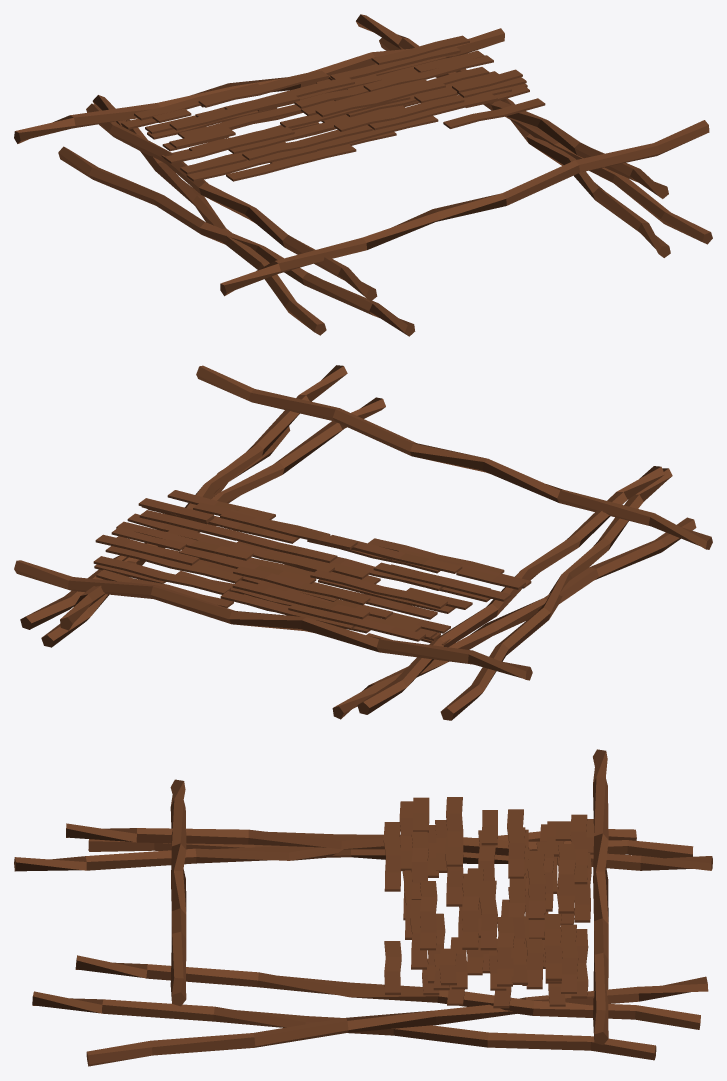
The model's file is TowerBuild.glb.
3 renders of one model, top to bottom at view 1: azimuth 30°, elevation 25°; view 2: azimuth 150°, elevation 25°; view 3: azimuth 270°, elevation 25°, orthographic. The views are drawn at different scales.
Parts seen in each view (by area): view 1: Cylinder.008, Cylinder.006, Cylinder.009, Cylinder.007, Cylinder.005, Cylinder.004, Cylinder.003, Cylinder.001, Cube.047, Cube.010, Cube.005, Cube.026 (+20 smaller); view 2: Cylinder.008, Cylinder.009, Cylinder.007, Cylinder.005, Cylinder.006, Cylinder.003, Cylinder.001, Cube.026, Cube.005, Cube.023, Cube.024, Cube.009 (+24 smaller); view 3: Cylinder.004, Cylinder.003, Cylinder.001, Cylinder.007, Cylinder.006, Cylinder.009, Cylinder.005, Cylinder.008, Cube.008, Cube.026, Cube.005, Cube.023 (+26 smaller).
Part boxes in pixels (x1,y1,x2,y2): Cylinder.008: [220, 120, 709, 296]; Cylinder.006: [58, 146, 415, 336]; Cylinder.009: [14, 28, 504, 143]; Cylinder.007: [86, 103, 377, 301]; Cylinder.005: [92, 95, 326, 335]; Cylinder.004: [356, 14, 712, 244]; Cylinder.003: [456, 68, 670, 257]; Cylinder.001: [379, 38, 668, 198]; Cube.047: [164, 127, 294, 163]; Cube.010: [226, 144, 356, 181]; Cube.005: [169, 93, 299, 130]; Cube.026: [315, 80, 445, 117]; Cylinder.008: [196, 365, 712, 549]; Cylinder.009: [14, 560, 532, 680]; Cylinder.007: [357, 466, 664, 714]; Cylinder.005: [332, 517, 696, 719]; Cylinder.006: [440, 468, 672, 720]; Cylinder.003: [20, 397, 385, 629]; Cylinder.001: [41, 365, 347, 647]; Cube.026: [199, 524, 337, 563]; Cube.005: [310, 570, 447, 608]; Cube.023: [232, 580, 369, 619]; Cube.024: [220, 510, 357, 549]; Cube.009: [233, 566, 370, 605]; Cylinder.004: [86, 976, 708, 1066]; Cylinder.003: [32, 991, 656, 1060]; Cylinder.001: [75, 955, 700, 1029]; Cylinder.007: [66, 823, 693, 858]; Cylinder.006: [14, 829, 636, 871]; Cylinder.009: [593, 749, 608, 1044]; Cylinder.005: [88, 839, 712, 870]; Cylinder.008: [170, 779, 186, 1006]; Cube.008: [479, 880, 497, 950]; Cube.026: [462, 880, 479, 949]; Cube.005: [507, 809, 525, 878]; Cube.023: [558, 844, 575, 913].
Size of the model in its own units: 4.07 by 0.6601 by 4.39.
